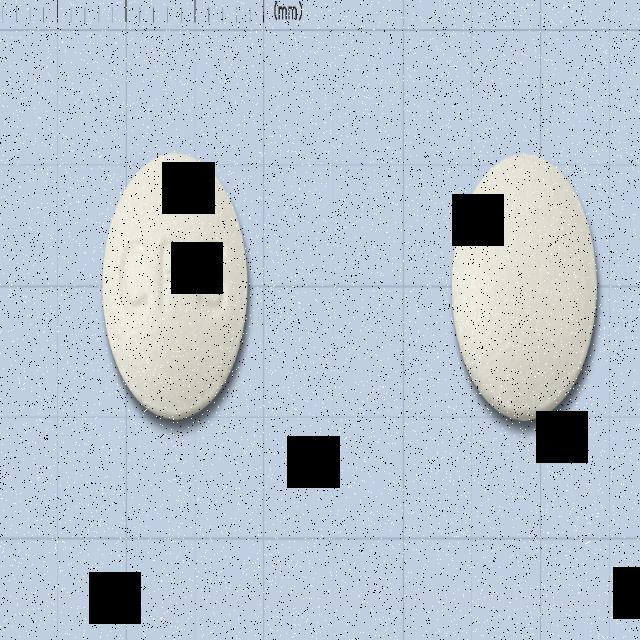Ciproxin: (100, 144, 254, 427)
